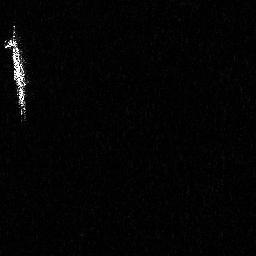ship: (3, 23, 31, 126)
